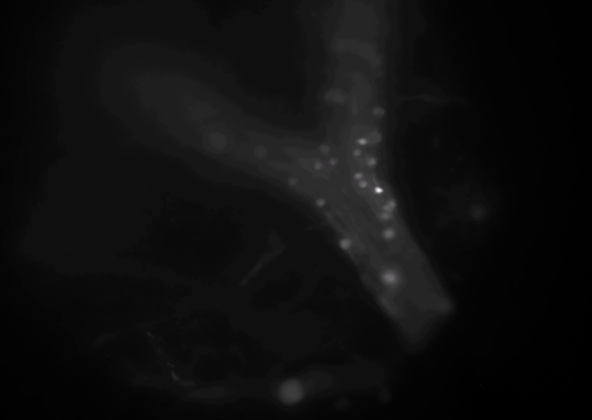cell: (373, 183, 387, 197), (355, 136, 369, 150), (371, 106, 385, 120), (350, 147, 364, 161), (366, 155, 380, 169), (316, 143, 330, 157), (311, 159, 325, 173), (327, 155, 341, 169), (325, 90, 339, 104), (351, 169, 365, 183), (333, 93, 347, 107), (353, 177, 367, 191), (338, 238, 352, 252), (382, 272, 396, 286), (382, 227, 396, 241), (381, 197, 395, 211), (379, 201, 393, 215), (382, 202, 396, 216), (314, 195, 328, 209), (382, 301, 396, 315), (285, 176, 299, 190), (255, 143, 269, 157), (207, 134, 221, 148), (439, 299, 453, 313), (358, 43, 372, 57), (368, 54, 382, 68), (333, 38, 347, 52), (368, 131, 382, 145)
